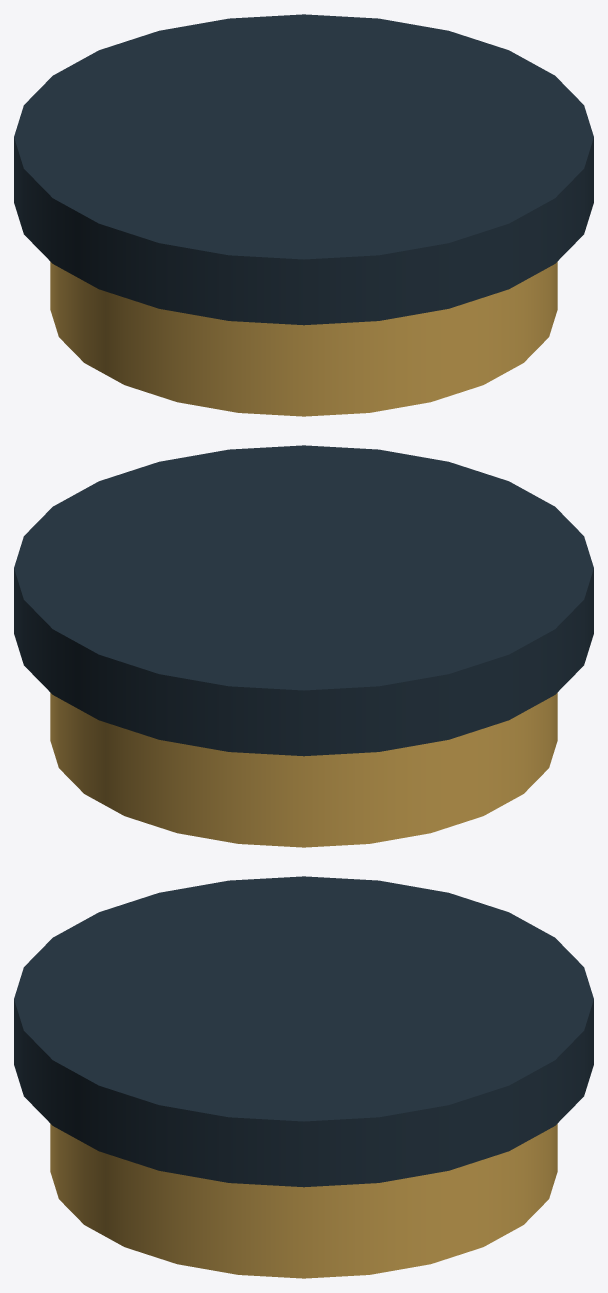
File: paper.glb
3 renders of one model, top to bottom at view 1: azimuth 30°, elevation 25°; view 2: azimuth 150°, elevation 25°; view 3: azimuth 270°, elevation 25°, orthographic.
Parts seen in each view (by area): view 1: DoseLid, MeteredAdhesive; view 2: DoseLid, MeteredAdhesive; view 3: DoseLid, MeteredAdhesive.
Boxes of the visible parts, <box> form: DoseLid: <box>14,14,593,325</box>; MeteredAdhesive: <box>50,262,557,416</box>; DoseLid: <box>14,445,593,756</box>; MeteredAdhesive: <box>50,693,557,847</box>; DoseLid: <box>14,876,593,1187</box>; MeteredAdhesive: <box>50,1124,557,1278</box>.
Bounding box in the file's own units: 0.016 × 0.00525 × 0.016.
